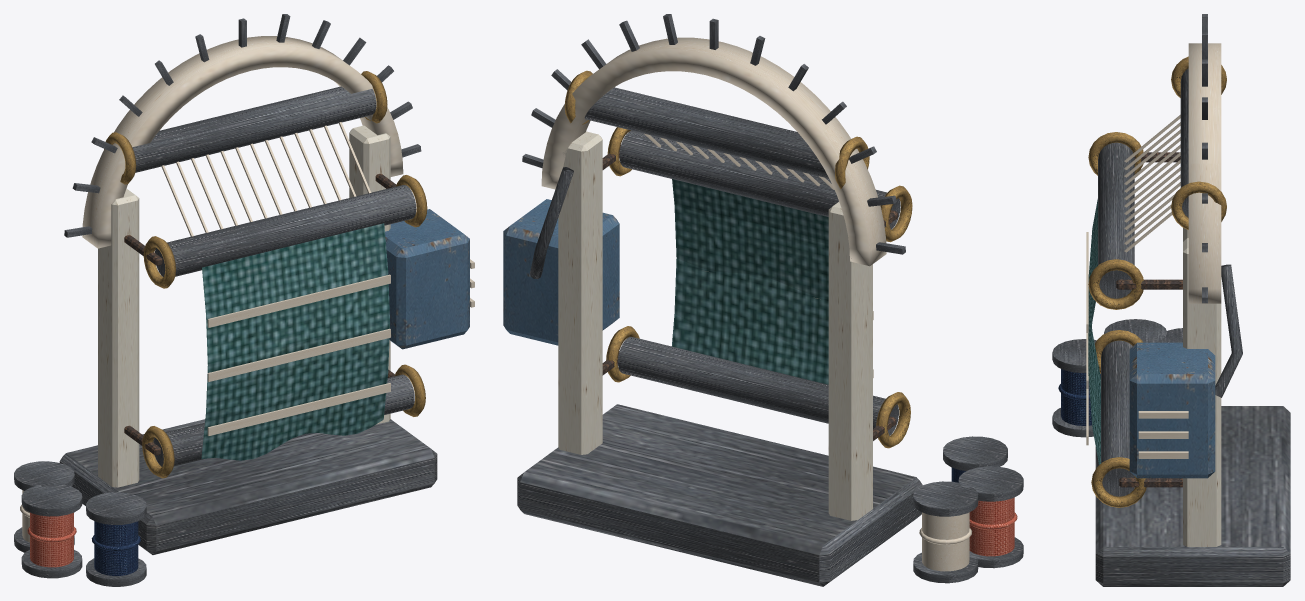
Rendered from revised-07-02.glb.
3 renders of one model, left to right at view 1: azimuth 30°, elevation 25°; view 2: azimuth 150°, elevation 25°; view 3: azimuth 270°, elevation 25°, orthographic. The views are drawn at different scales.
Parts seen in each view (by area): view 1: sundial_loom; view 2: sundial_loom; view 3: sundial_loom.
Boxes of the visible parts, x1,y1,x2,y2 form: sundial_loom: (14, 14, 474, 586); sundial_loom: (503, 14, 1023, 586); sundial_loom: (1052, 14, 1290, 586).
Size of the model in its own units: 1.83 by 1.81 by 0.807.
Materials: 2 (2 with a texture image).
